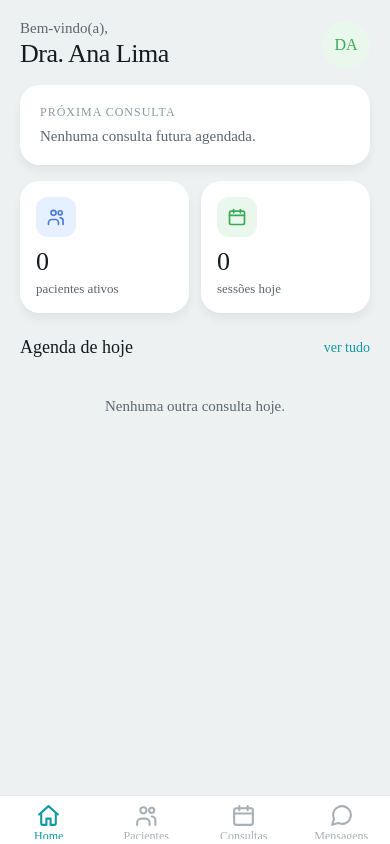
Test: Profissional — Alterar Senha (S5-08) › troca pelo endpoint do profissional, entra de novo e limpa o formulário
Click the button with test id "home-perfil": (64, 28) [20,20,370,69]
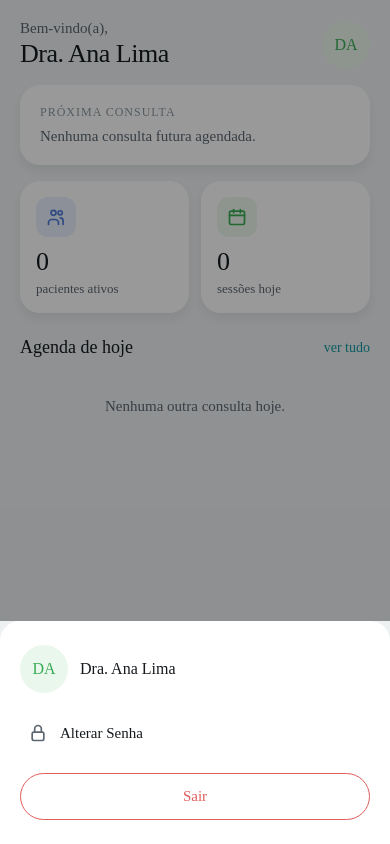
Click the button "Alterar Senha": (101, 732) [20,709,370,757]
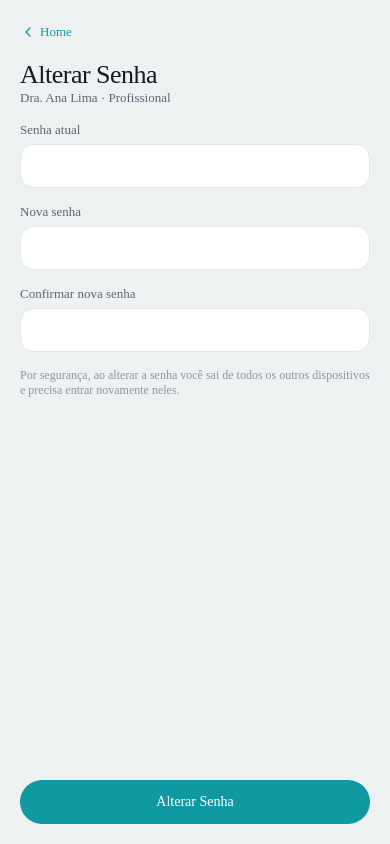
Now the heading "Alterar Senha" is shown, box [20,60,157,89]
In the password field with test id "senha-senhaAtual": (195, 166) [20,144,370,188], type "senha-velha"
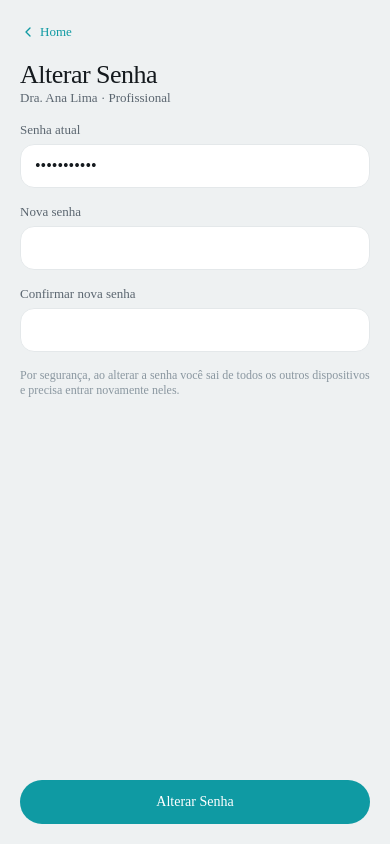
In the password field with test id "senha-novaSenha": (195, 248) [20,226,370,270], type "senha-nova-123"
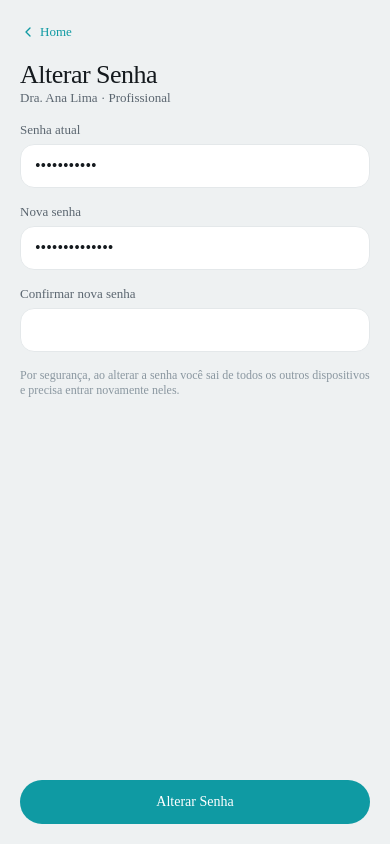
In the password field with test id "senha-confirmarNovaSenha": (195, 330) [20,308,370,352], type "senha-nova-123"
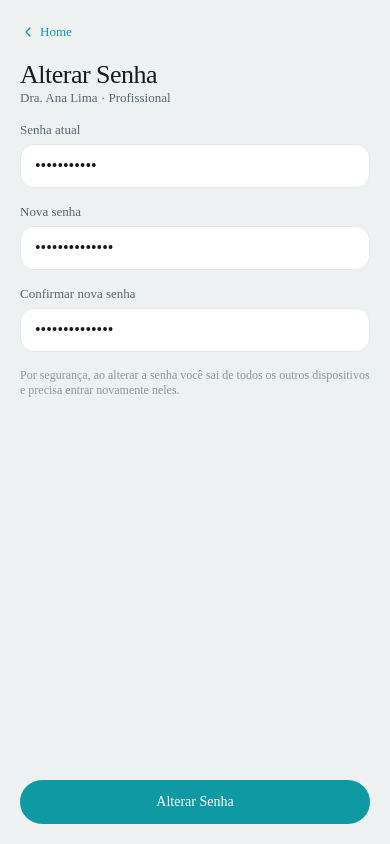
Click the button with test id "senha-enviar": (195, 802) [20,780,370,824]
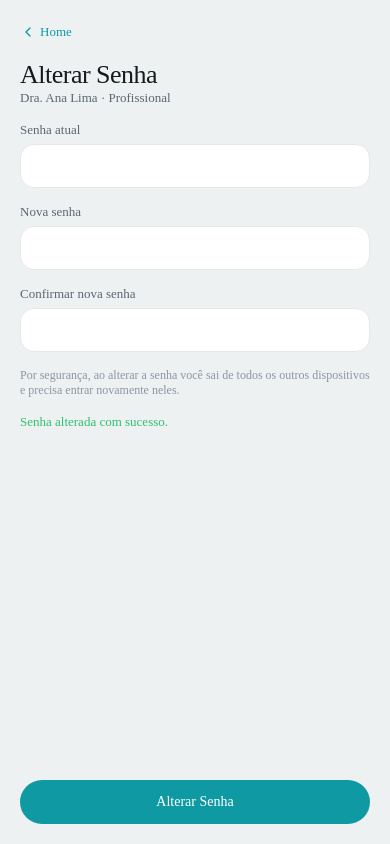
Now the text with test id "senha-sucesso" reads "Senha alterada com sucesso.", box [20,414,168,429]
Now the password field with test id "senha-senhaAtual" is empty, box [20,144,370,188]
